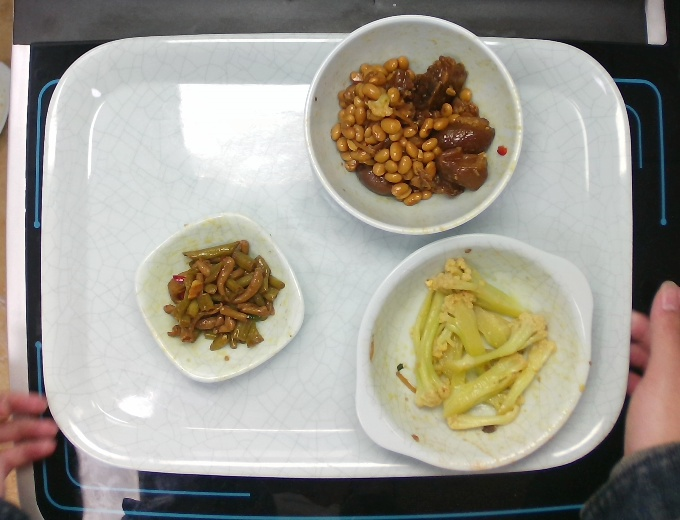JYsf-Fan_Wan: (299, 11, 529, 239)
JYsf-Shuang_Er_Wan: (349, 228, 600, 475)
JYsf-Si_Fang_Die: (129, 210, 308, 388)
